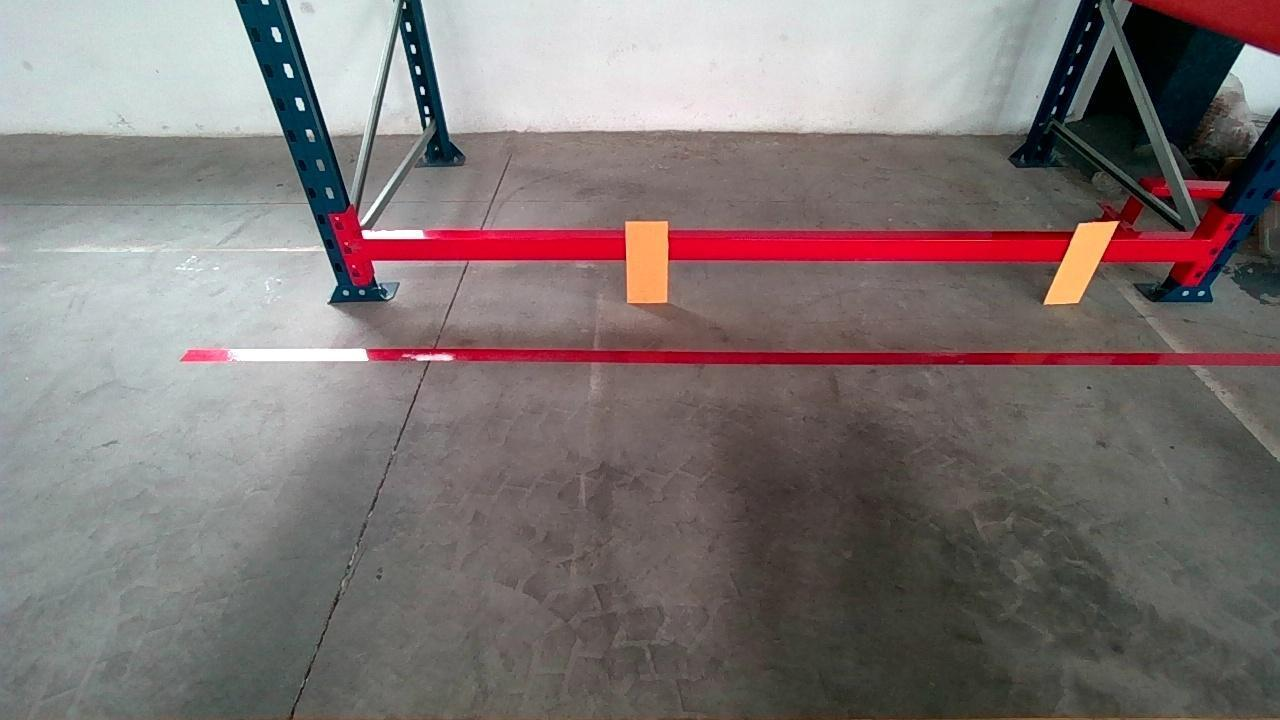h_rack: (358, 237, 1206, 260)
orange_strip: (1044, 222, 1119, 302), (626, 219, 669, 301)
red_line: (184, 347, 1280, 369)
